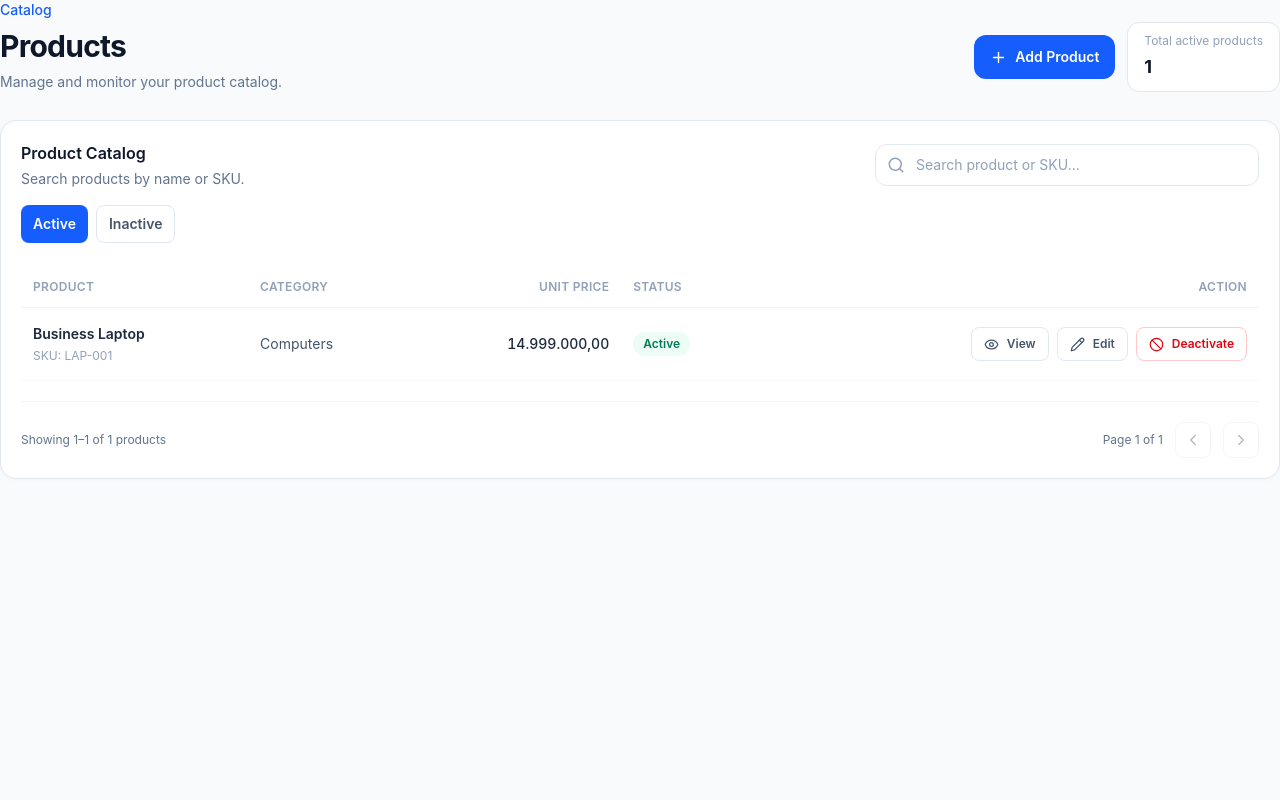
Test: ProductsPage › deactivates a product after confirmation
Expected: the text "Business Laptop" is shown, [33,325,145,342]
Step 1. Click the button with aria-label "Deactivate Business Laptop" → (1191, 344), box [1136,327,1247,361]
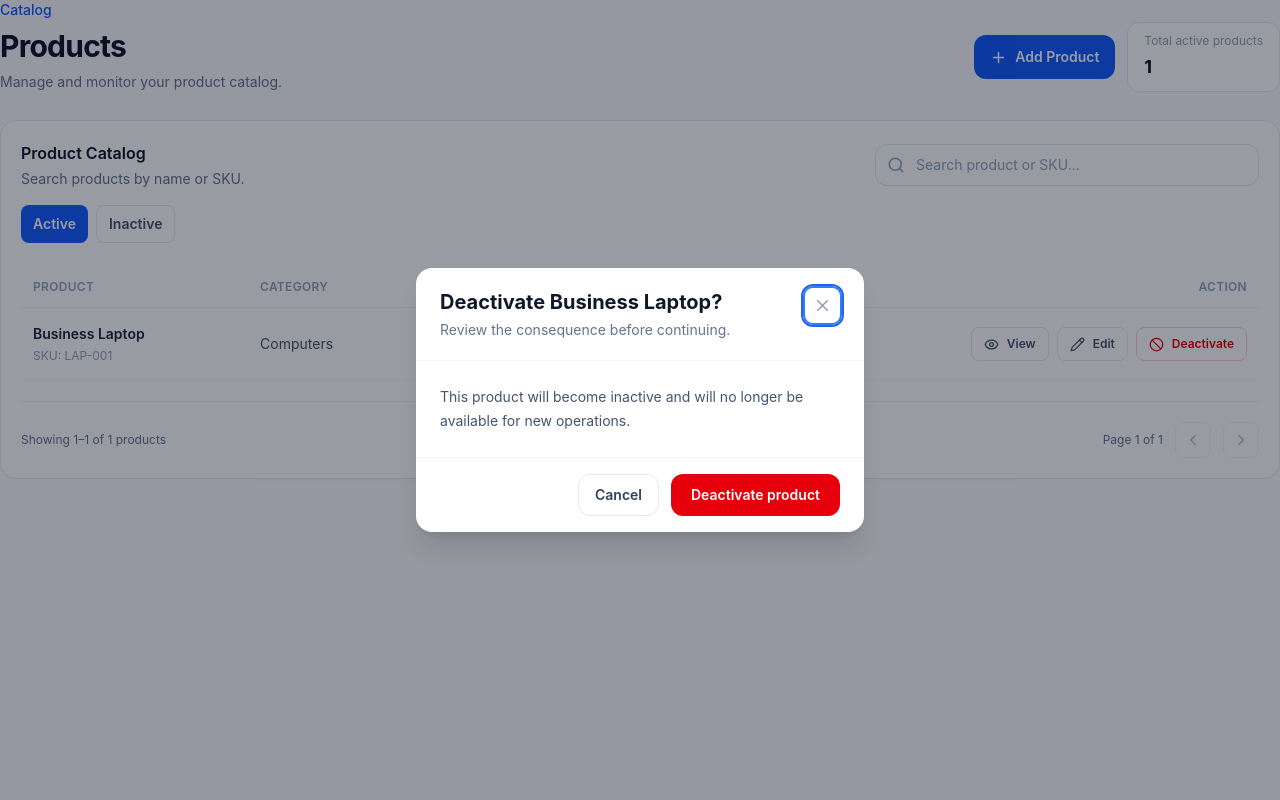
Step 2. Click the button "Deactivate product" → (756, 495), box [671,474,840,516]
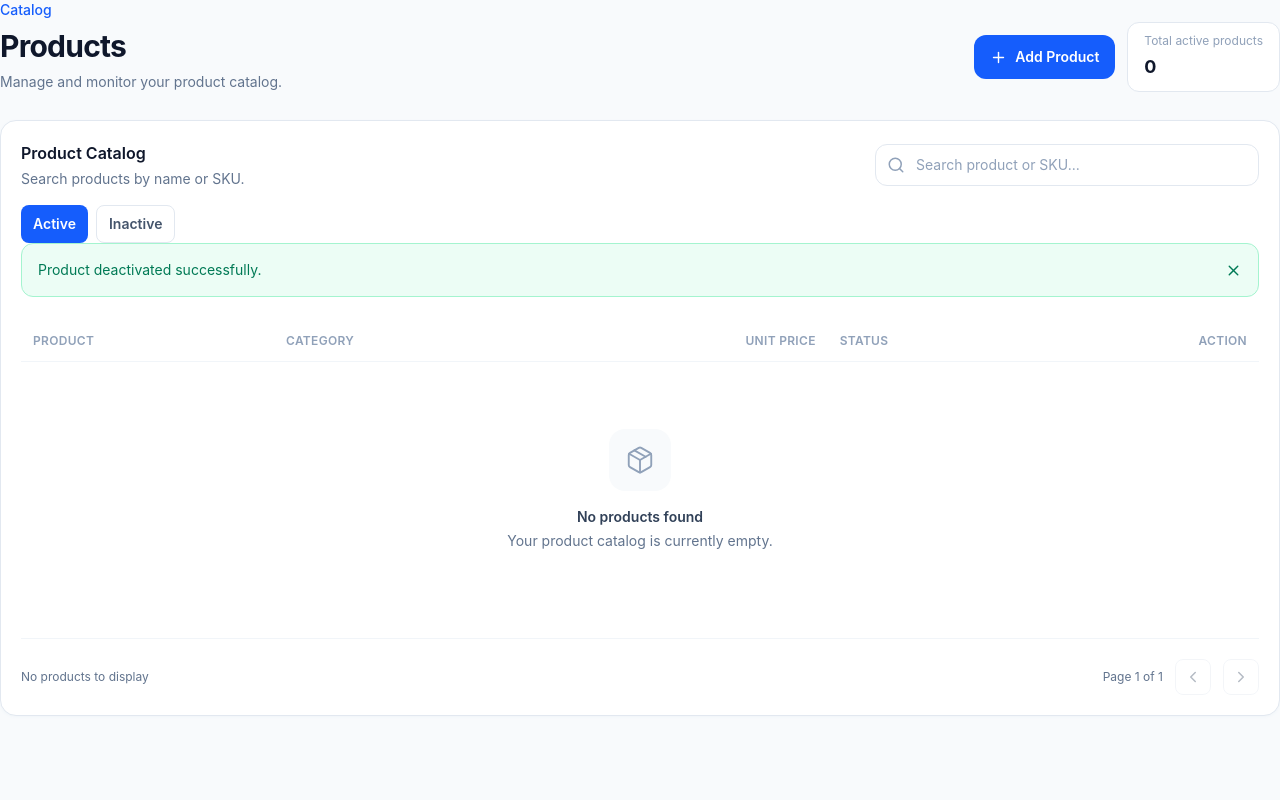
Expected: the text "Business Laptop" is gone
Expected: the heading "No products found" is shown, [577,507,703,527]
